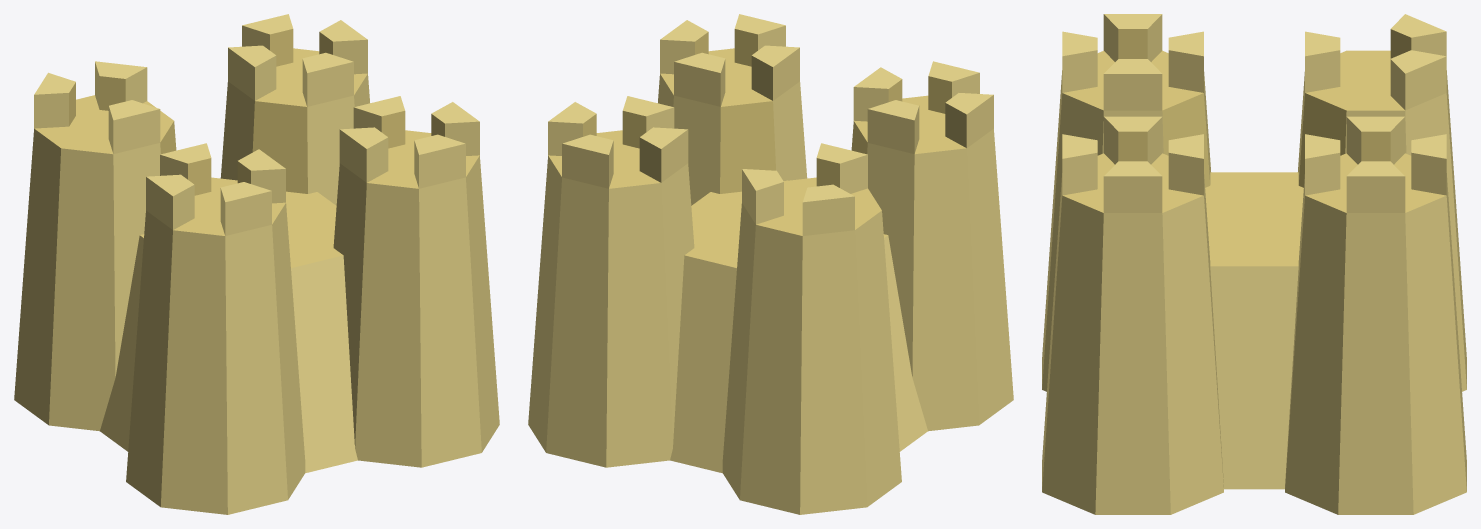
File: Castle Model.fbx
3 views of the same model, side by side, from view 1: azimuth 30°, elevation 25°; view 2: azimuth 150°, elevation 25°; view 3: azimuth 270°, elevation 25° (orthographic). The views are drawn at different scales.
Visible parts, largest first — view 1: cuboid; view 2: cuboid; view 3: cuboid.
Part boxes in pixels (box(x1,y1,x2,y2)): cuboid: box(14, 14, 499, 514); cuboid: box(528, 14, 1013, 514); cuboid: box(1042, 14, 1466, 514).
Size of the model in its own units: 65.62 by 56.25 by 65.62.
1 material, 1 textured.
